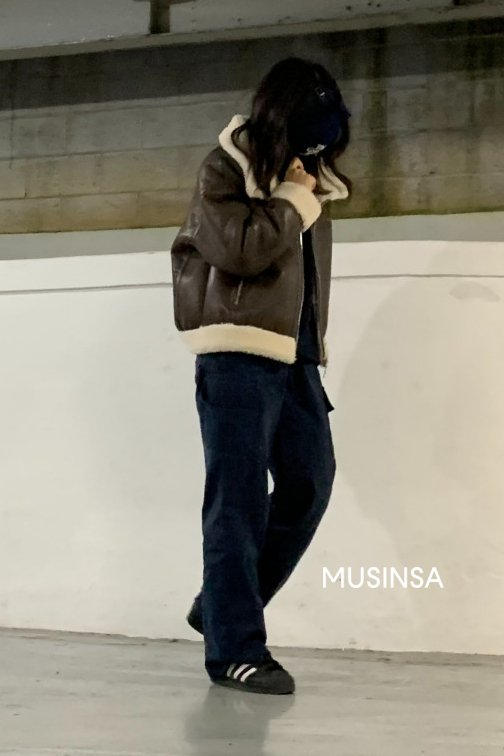Cap: (291, 83, 335, 186)
Jacket: (160, 118, 343, 373)
Pants: (188, 342, 338, 666)
Shoes: (187, 601, 305, 703)
